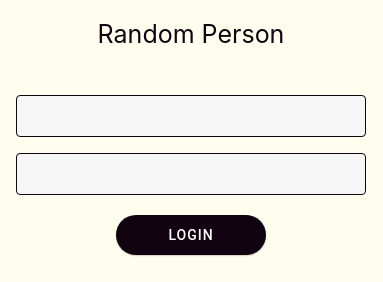
Test: should show user error message if user not valid
In the password field with test id "passwordInput": coordinates (169, 175) [16, 155, 322, 195], type "a@"
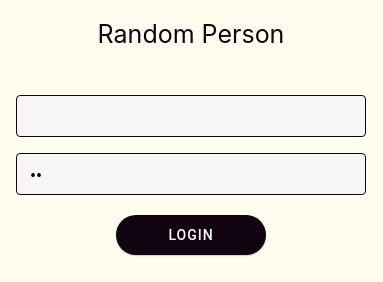
Click the button with test id "loginButton": coordinates (191, 235) [116, 215, 266, 255]
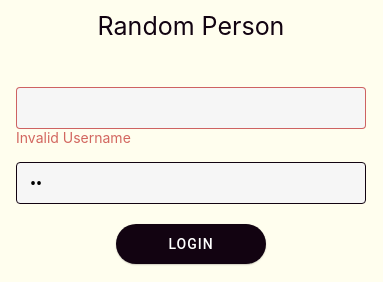
Now the text "Invalid Username" is shown, box [16, 128, 131, 146]
